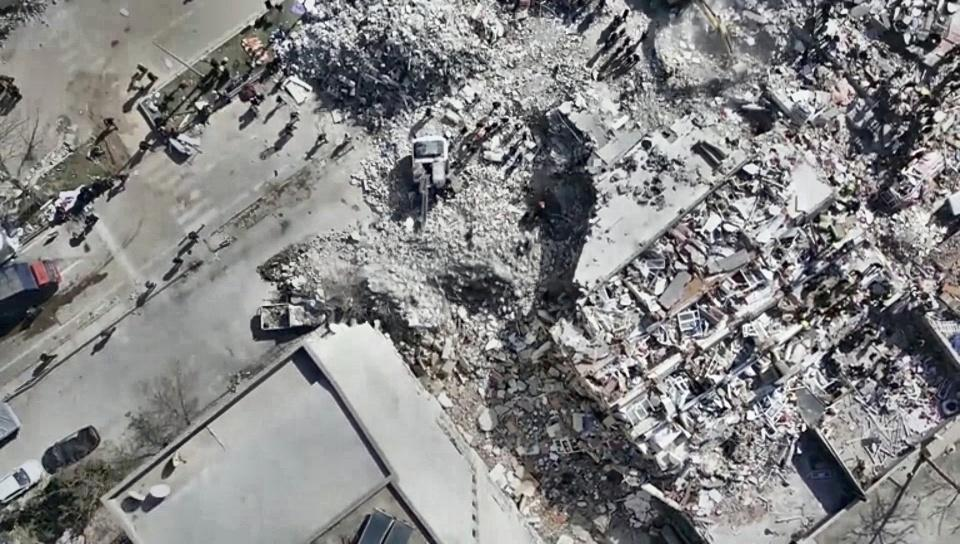kapali: (187, 1, 693, 364), (211, 0, 521, 190)
